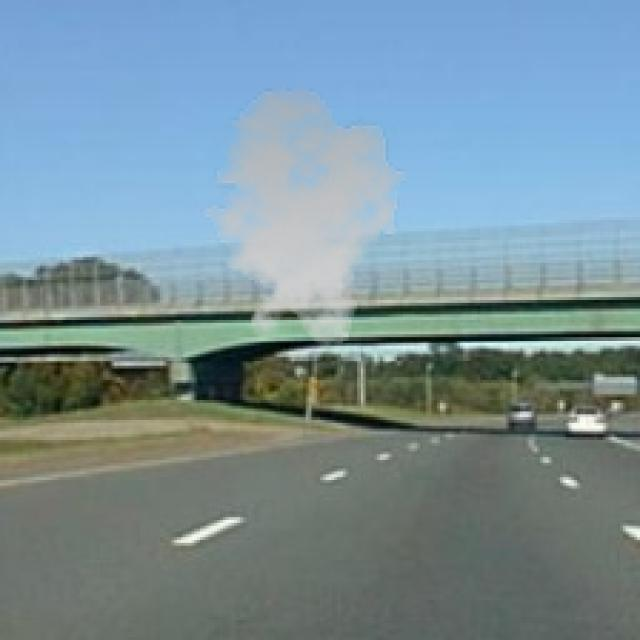smoke: (192, 85, 412, 348)
